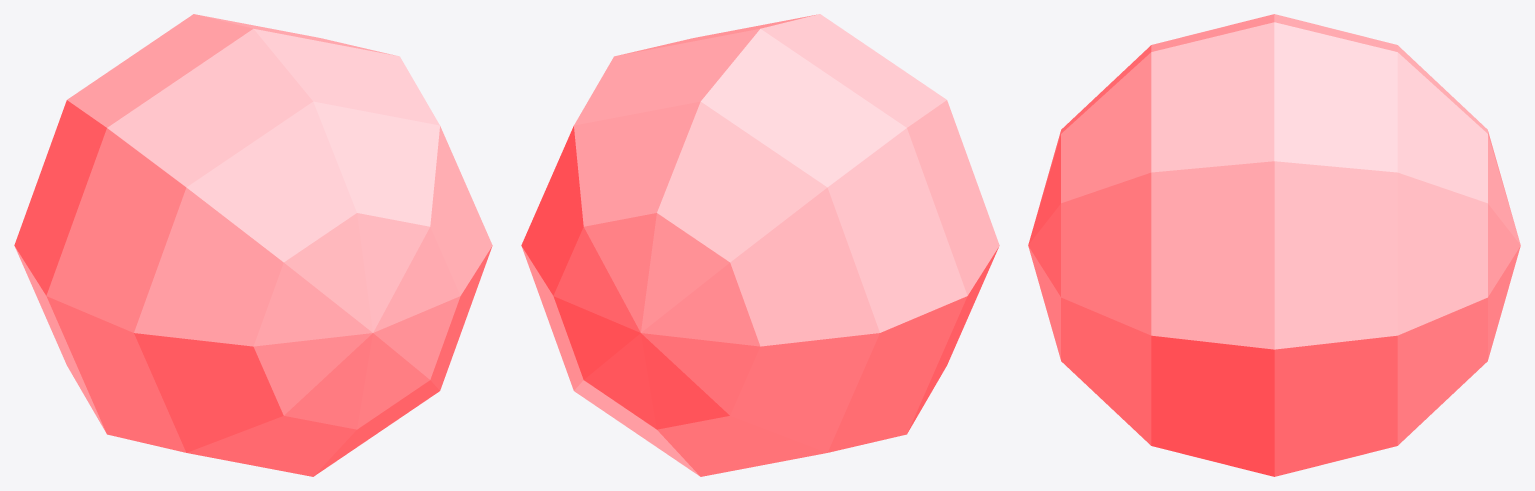
Rendered from Eye.glb.
3 renders of one model, left to right at view 1: azimuth 30°, elevation 25°; view 2: azimuth 150°, elevation 25°; view 3: azimuth 270°, elevation 25°, orthographic. The views are drawn at different scales.
Parts seen in each view (by area): view 1: Sphere.001; view 2: Sphere.001; view 3: Sphere.001.
Part boxes in pixels (box(x1,y1,x2,y2)): Sphere.001: box(14, 14, 492, 476); Sphere.001: box(521, 14, 999, 476); Sphere.001: box(1028, 14, 1520, 476).
Size of the model in its own units: 2 by 2 by 2.
